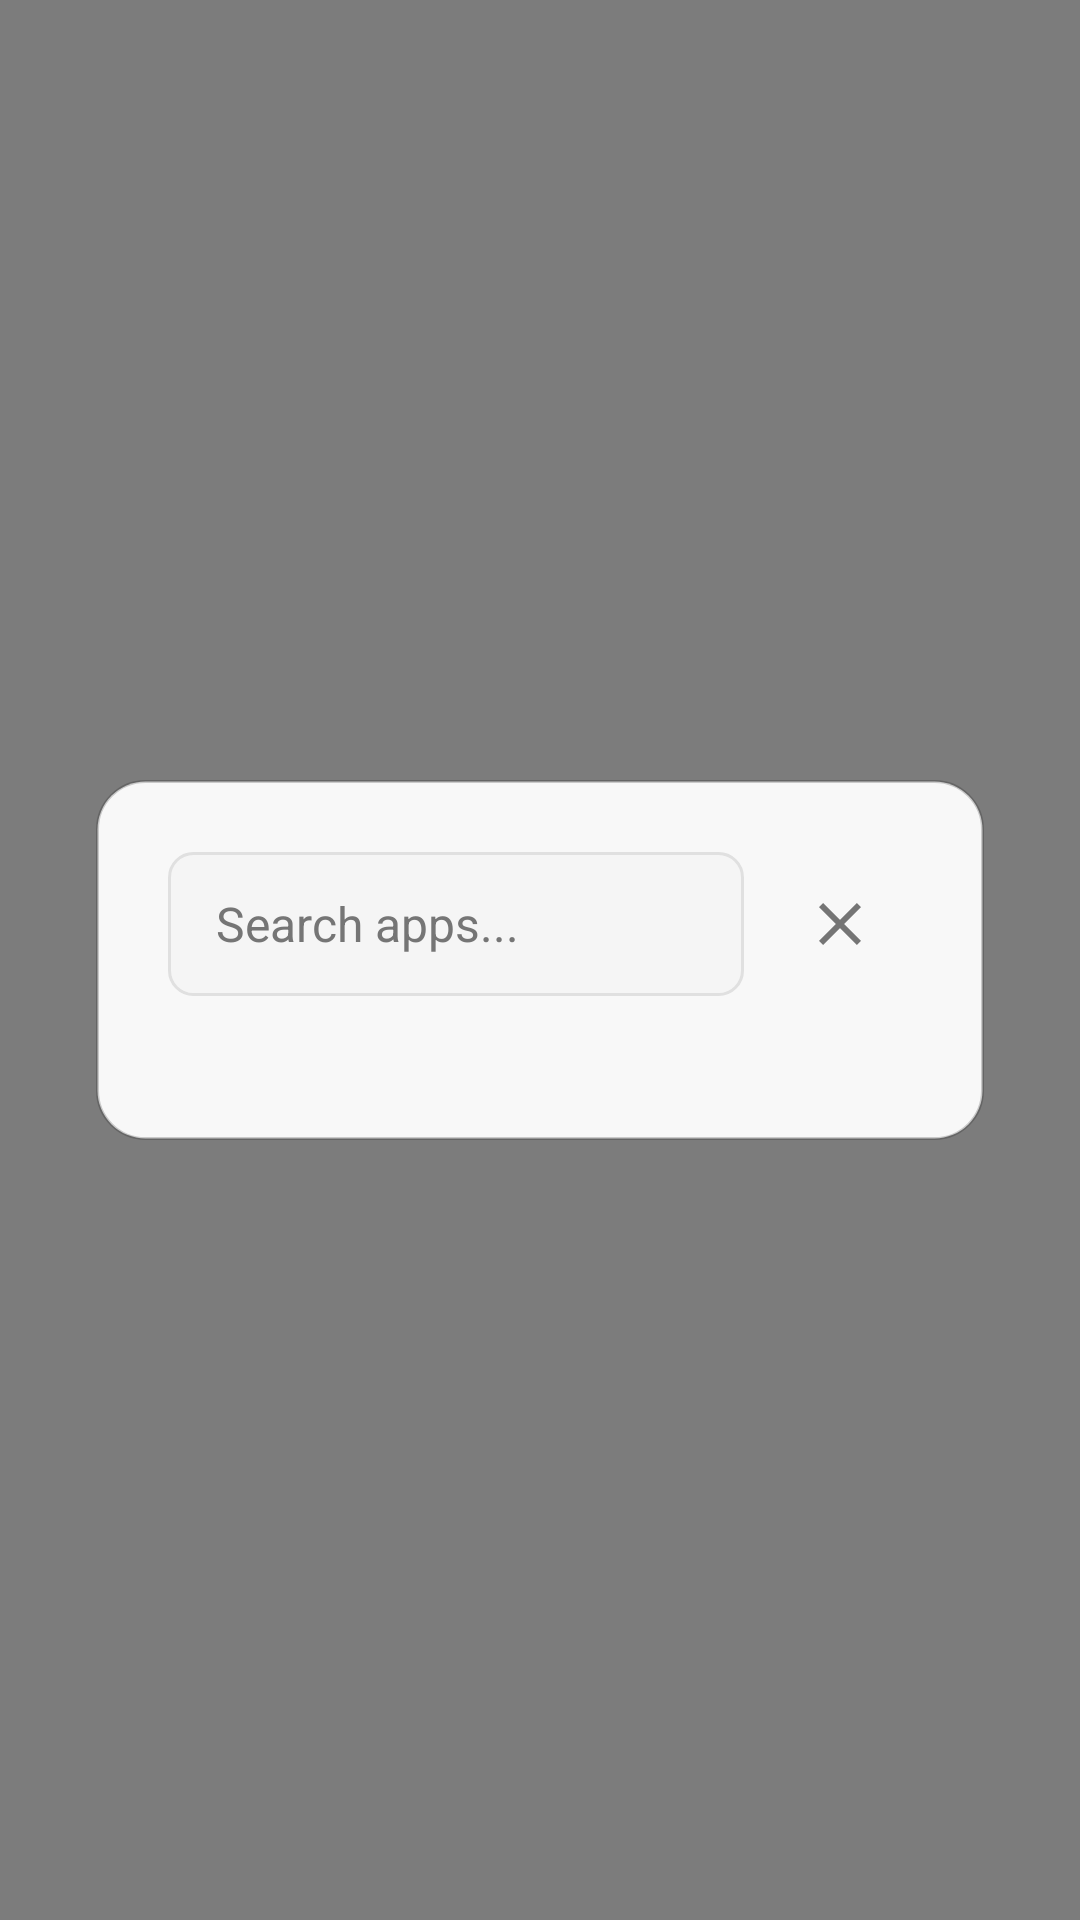

Icon bounding boxes for this 1080x1920 phone screenshot, format [x1,y1,x2,y2]:
Close drawer: [819,903,861,945]
